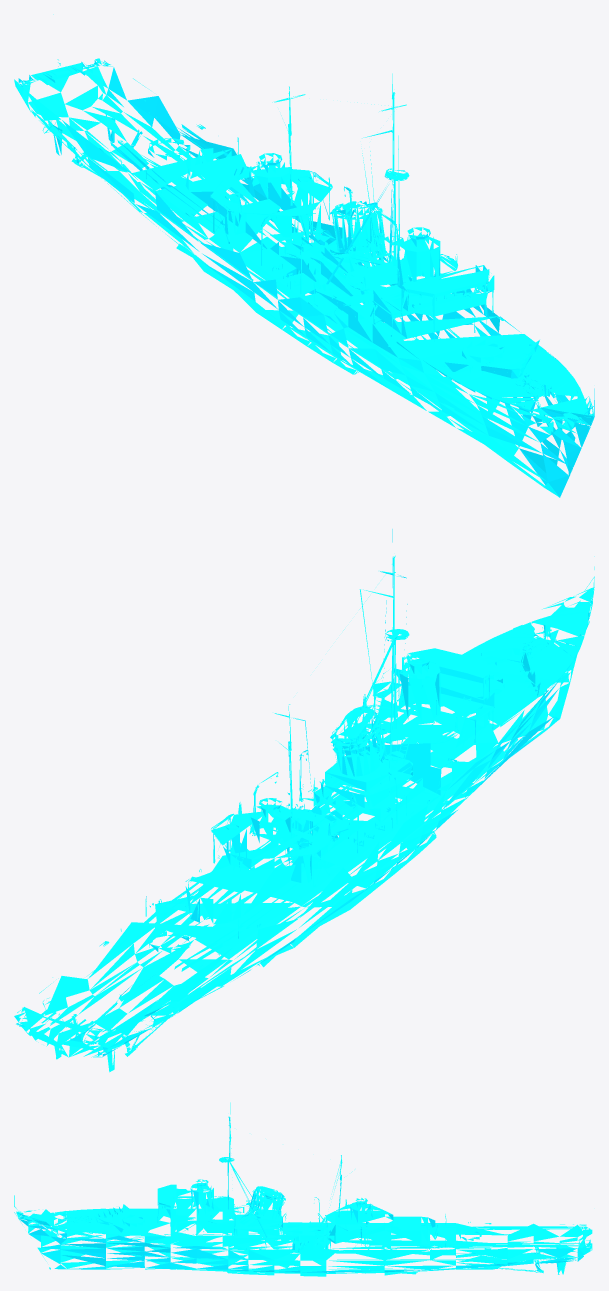
Rendered from Orlan.glb.
3 renders of one model, top to bottom at view 1: azimuth 30°, elevation 25°; view 2: azimuth 150°, elevation 25°; view 3: azimuth 270°, elevation 25°, orthographic. The views are drawn at different scales.
Size of the model in its own units: 0.7465 by 1.97 by 6.15.
